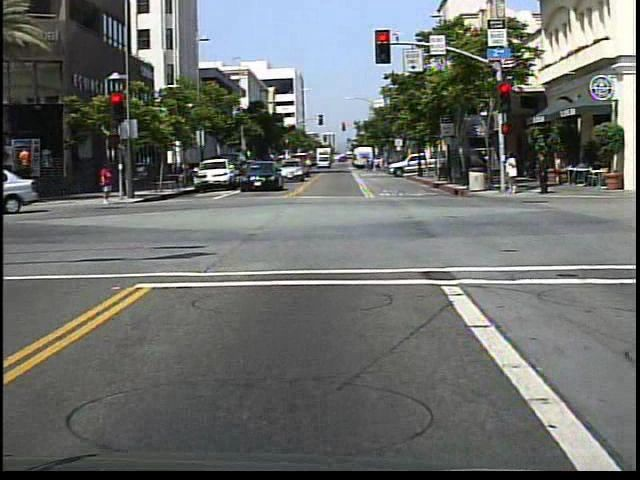person: (532, 148, 552, 196), (504, 149, 521, 199), (100, 162, 118, 208)
